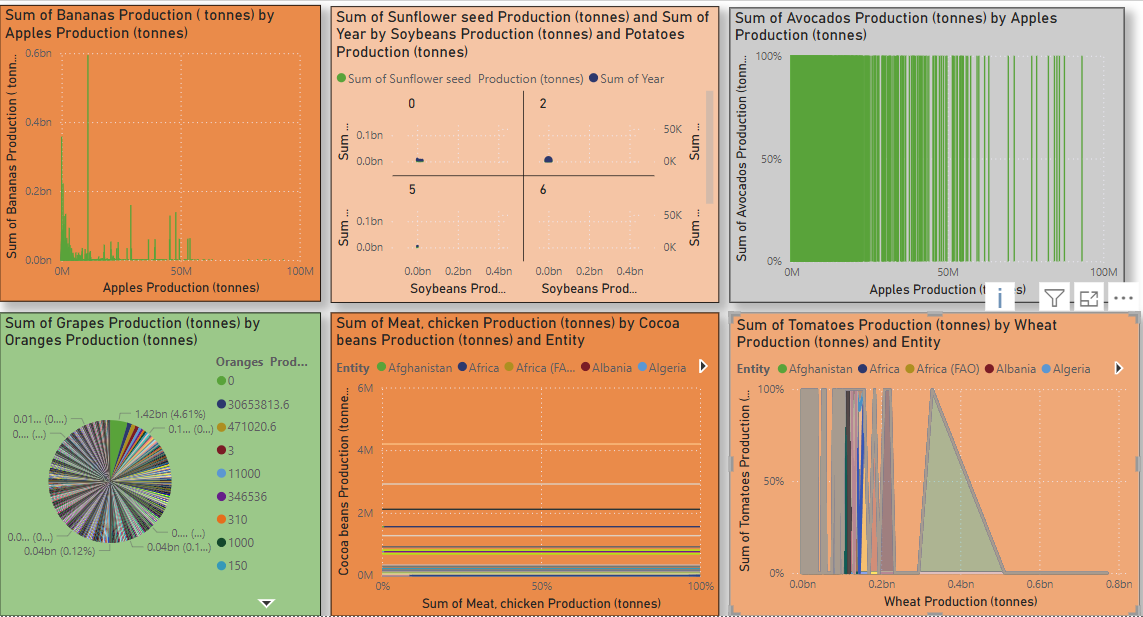

Layout of this report page (visuals, bound fields, positions):
{"tool":"powerbi","page":{"name":"Page 1","canvas":[1280,720],"ordinal":0},"visuals":[{"type":"columnChart","fields":{"Category":["world food production.Apples Production (tonnes)"],"Y":["Sum(world food production.Bananas  Production ( tonnes))"]},"box":[13.7,49.4,352.7,325.2],"z":0},{"type":"lineChart","fields":{"Y2":["Sum(world food production.Year)"],"Y":["Sum(world food production.Sunflower seed  Production (tonnes))"],"Category":["world food production.Soybeans  Production (tonnes)"],"Rows":["world food production.Potatoes  Production (tonnes)"]},"box":[377.4,50.8,426.8,325.2],"z":1000},{"type":"actionButton","box":[0,0,100,40],"z":2000},{"type":"pieChart","fields":{"Category":["world food production.Oranges  Production (tonnes)"],"Y":["Sum(world food production.Grapes  Production (tonnes))"]},"box":[13.7,387,352.7,333.4],"z":3000},{"type":"textbox","box":[1001.7,0,278.6,98.8],"z":4000},{"type":"textbox","box":[79.6,0,1185.6,39.8],"z":5000},{"type":"hundredPercentStackedColumnChart","fields":{"Category":["world food production.Apples Production (tonnes)"],"Y":["Sum(world food production.Avocados Production (tonnes))"]},"box":[815.1,52.1,433.6,323.8],"z":6000},{"type":"hundredPercentStackedBarChart","fields":{"Series":["world food production.Entity"],"Category":["world food production.Cocoa beans Production (tonnes)"],"Y":["Sum(world food production.Meat, chicken  Production (tonnes))"]},"box":[377.4,387,426.8,333.4],"z":7000},{"type":"hundredPercentStackedAreaChart","fields":{"Category":["world food production.Wheat Production (tonnes)"],"Y":["Sum(world food production.Tomatoes Production (tonnes))"],"Series":["world food production.Entity"]},"box":[815.1,387,450.1,333.4],"z":8000}]}

Visuals, with their boxes in screenshot pixels (x1, y1, x2, y2):
columnChart - world food production.Apples Production (tonnes) x Sum(world food production.Bananas  Production ( tonnes)): l=0, t=12, r=317, b=307
lineChart - Sum(world food production.Year) x Sum(world food production.Sunflower seed  Production (tonnes)): l=327, t=13, r=715, b=308
actionButton: l=0, t=0, r=76, b=4
pieChart - world food production.Oranges  Production (tonnes) x Sum(world food production.Grapes  Production (tonnes)): l=0, t=318, r=317, b=616
textbox: l=894, t=0, r=1142, b=57
textbox: l=57, t=0, r=1133, b=3
hundredPercentStackedColumnChart - world food production.Apples Production (tonnes) x Sum(world food production.Avocados Production (tonnes)): l=725, t=15, r=1118, b=308
hundredPercentStackedBarChart - world food production.Entity x world food production.Cocoa beans Production (tonnes): l=327, t=318, r=715, b=616
hundredPercentStackedAreaChart - world food production.Wheat Production (tonnes) x Sum(world food production.Tomatoes Production (tonnes)): l=725, t=318, r=1133, b=616
